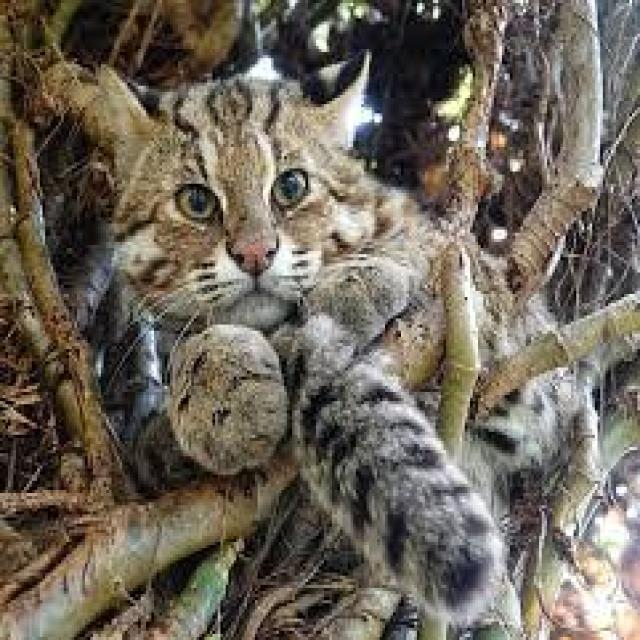leopard: (49, 69, 640, 573)
